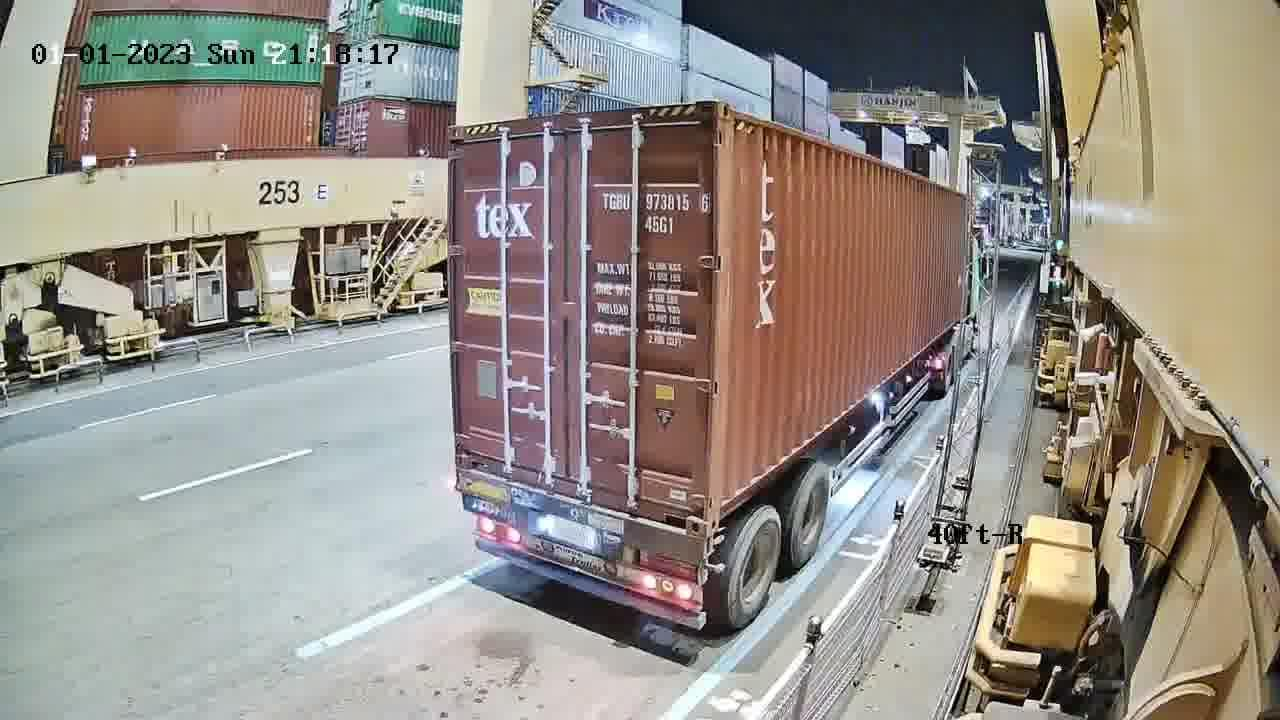Chassis: (453, 468, 710, 562)
Cone: (707, 529, 731, 562)
Hole_L: (709, 460, 743, 533), (455, 426, 497, 479)
Hole_R: (666, 480, 708, 538)
Tire: (729, 509, 780, 627), (790, 466, 831, 566)
